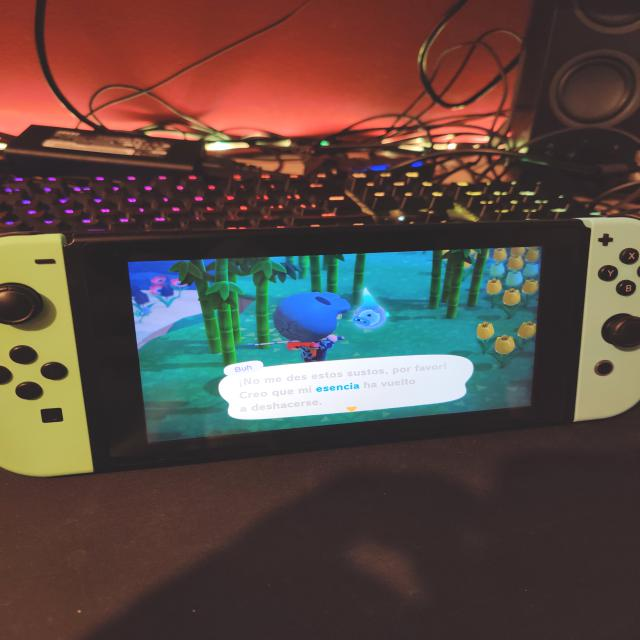text_bubble: (217, 353, 476, 423)
